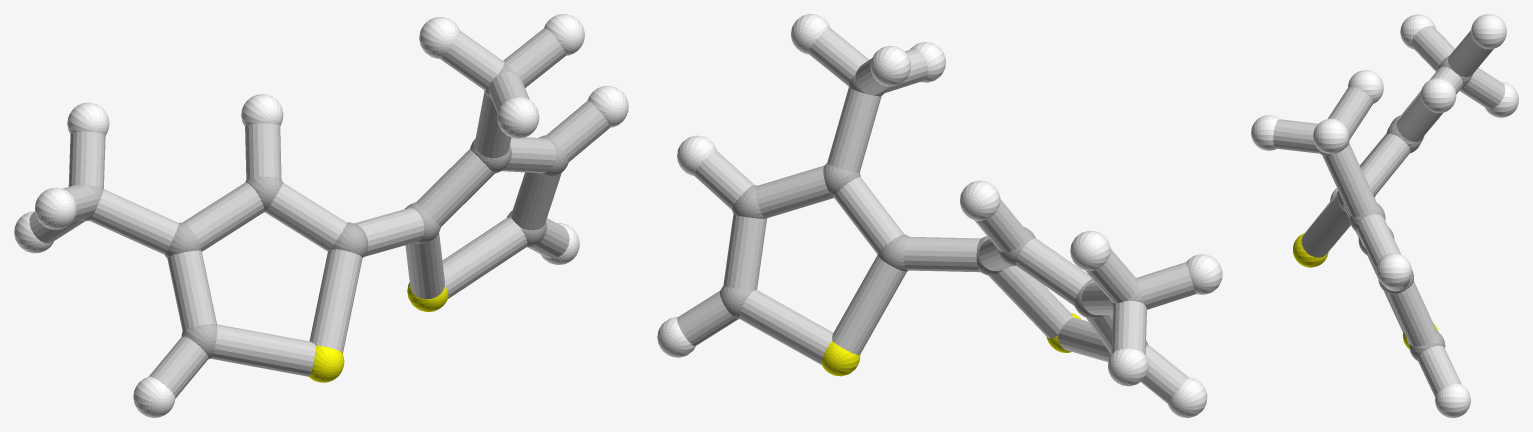
File: Methylthiophene_Phi_30_Theta_240_Methylthiophene.glb
The picture shows the model from 3 angles, left to right: view 1: azimuth 30°, elevation 25°; view 2: azimuth 150°, elevation 25°; view 3: azimuth 270°, elevation 25°; orthographic projection. The views are drawn at different scales.
Visible parts, largest first — view 1: grp7965, grp3621, grp1, grp7241; view 2: grp7965, grp3621, grp1, grp7241; view 3: grp7965, grp3621, grp1, grp7241.
Boxes of the visible parts, x1,y1,x2,y2 form: grp7965: (29, 28, 609, 398); grp3621: (14, 14, 628, 417); grp1: (80, 63, 568, 359); grp7241: (309, 282, 448, 382); grp7965: (677, 28, 1196, 403); grp3621: (657, 14, 1222, 417); grp1: (720, 73, 1148, 356); grp7241: (821, 313, 1081, 376); grp7965: (1273, 26, 1505, 396); grp3621: (1251, 14, 1518, 417); grp1: (1318, 56, 1472, 360); grp7241: (1293, 233, 1438, 348).
Bounding box in the file's own units: 9.41 × 5.06 × 4.47.
